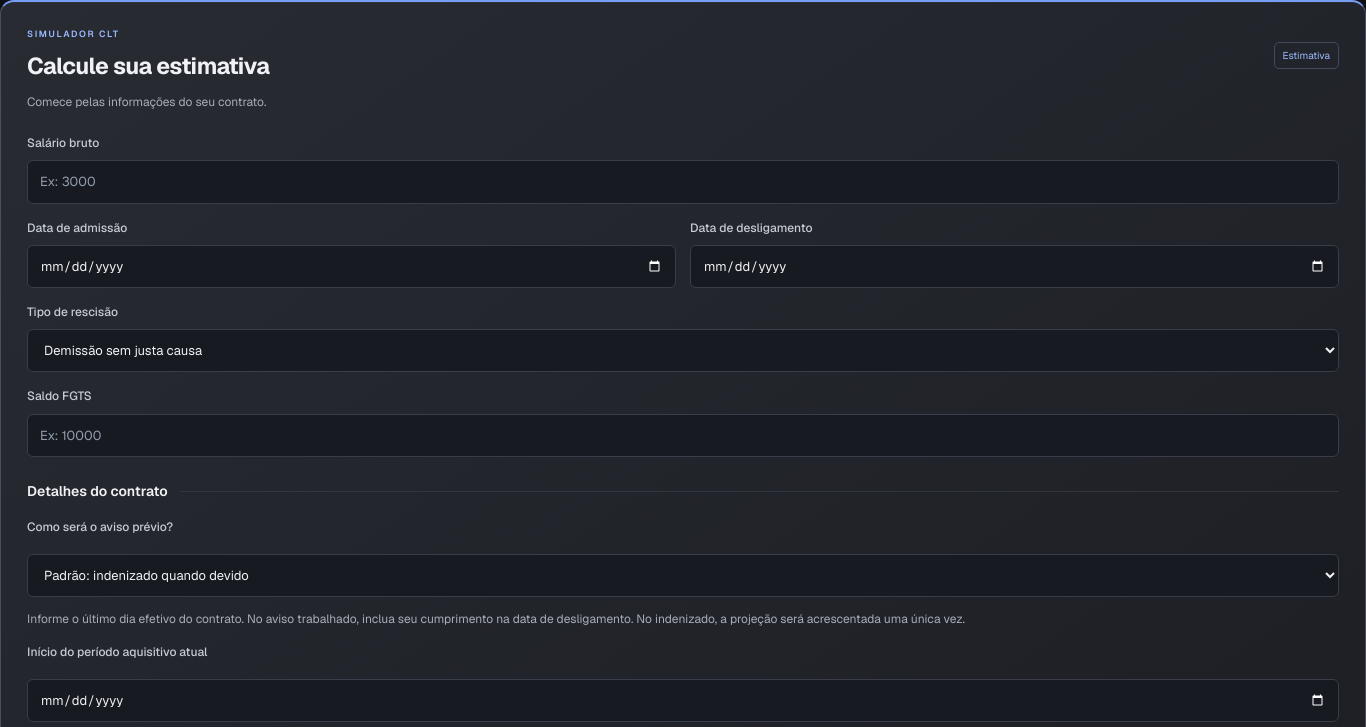
Test case: mostra erro de período antigo antes de exibir estimativa
In the number field labelled "Salário bruto": (683, 182) [27, 160, 1339, 204], type "3000"
In the date field labelled "Data de admissão": (352, 267) [27, 245, 676, 288], type "2026-01-01"
In the date field labelled "Data de desligamento": (1014, 267) [690, 245, 1339, 288], type "2026-01-15"
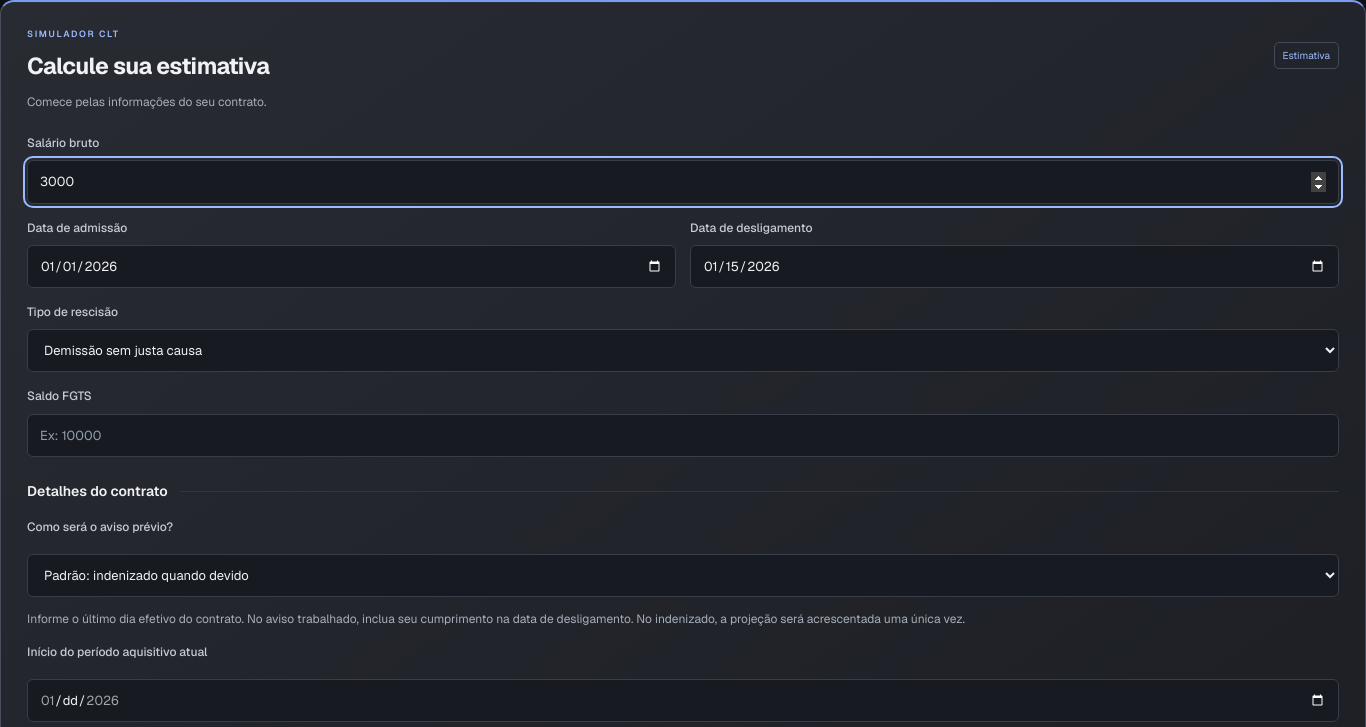
Select "Pedido de demissão" in the dropdown labelled "Tipo de rescisão": (683, 351) [27, 329, 1339, 372]
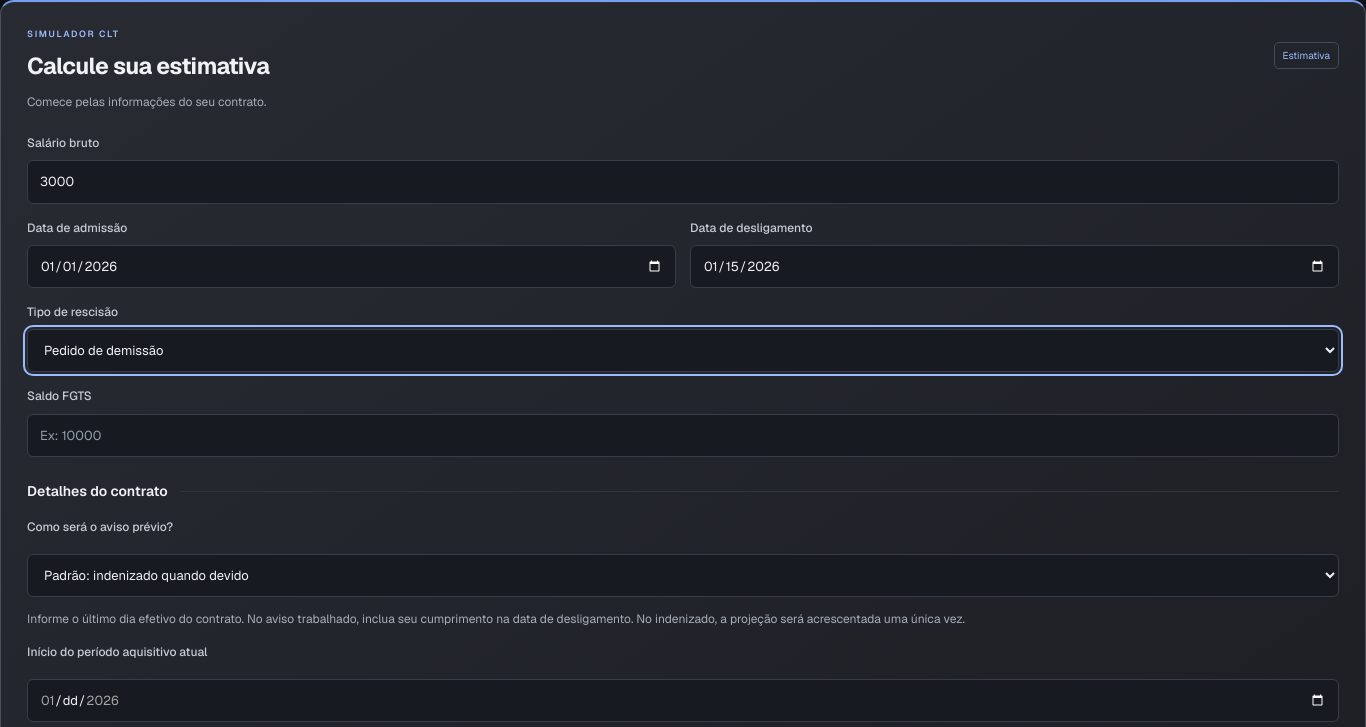
In the number field labelled "Saldo FGTS": (683, 435) [27, 414, 1339, 457], type "10000"
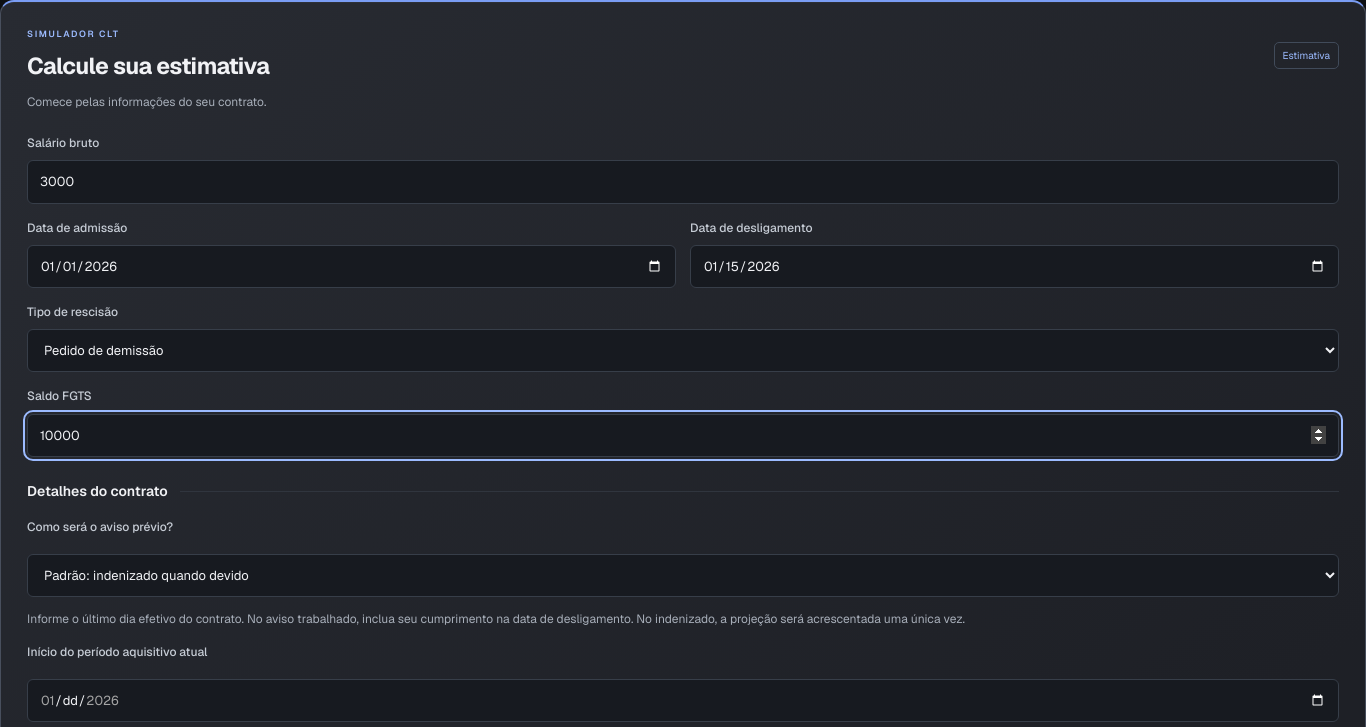
In the date field labelled "Data de admissão": (352, 267) [27, 245, 676, 288], type "2024-01-01"
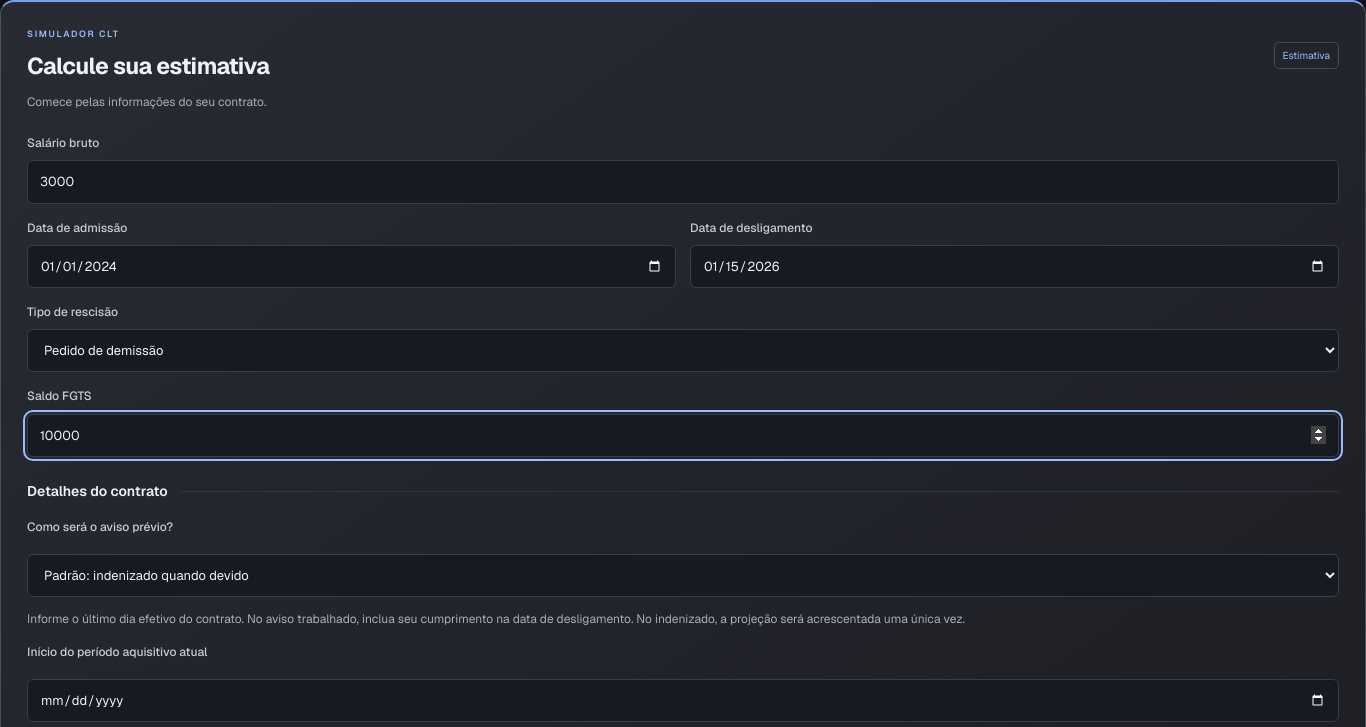
In the date field labelled "Início do período aquisitivo atual": (683, 700) [27, 679, 1339, 722], type "2024-01-01"
(page scrolled)
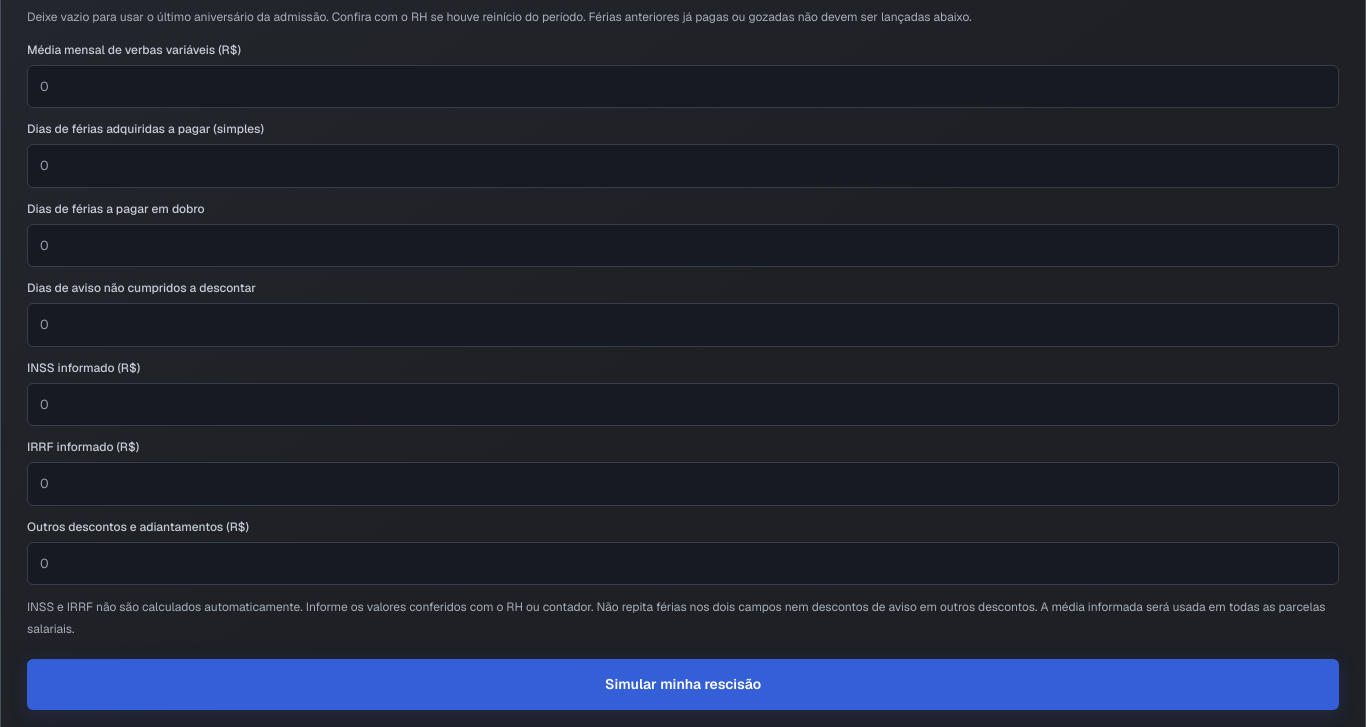
Click the button "Simular minha rescisão": (683, 685) [27, 659, 1339, 710]
(page scrolled)
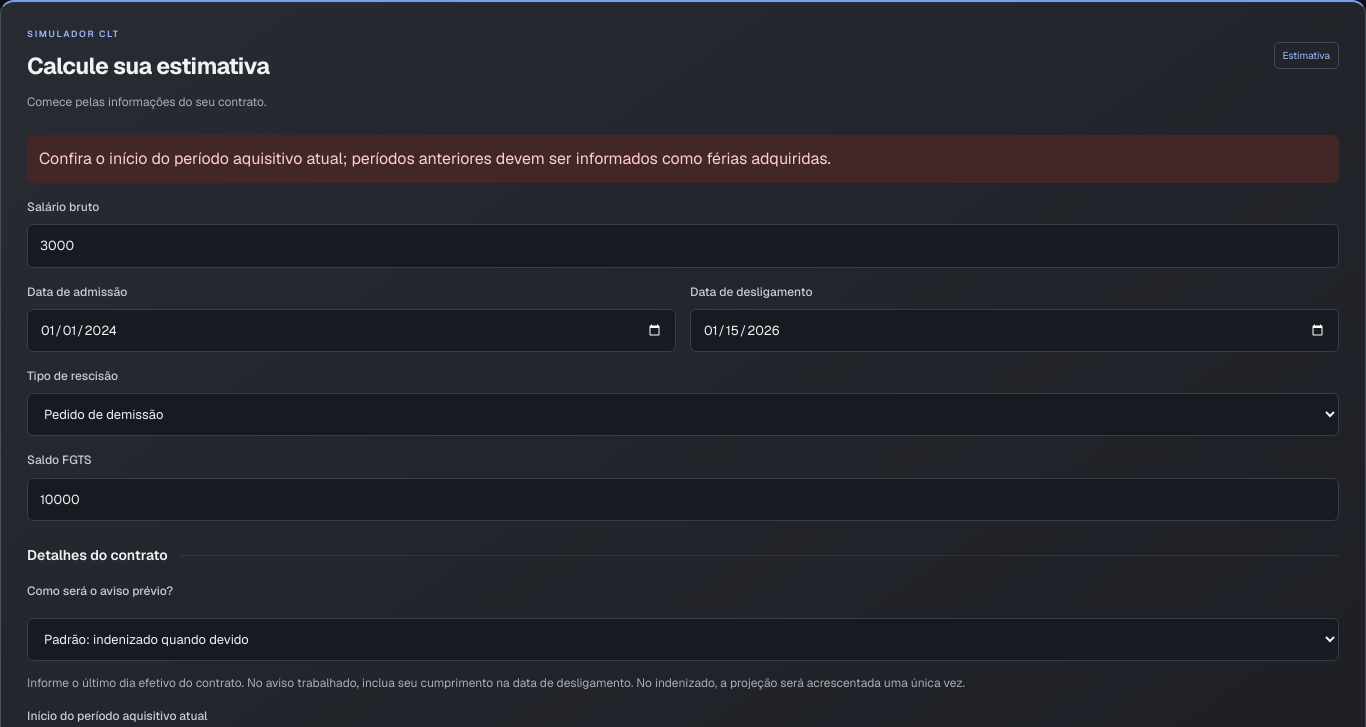
Check: the message shows "período aquisitivo atual", box [39, 148, 831, 169]
